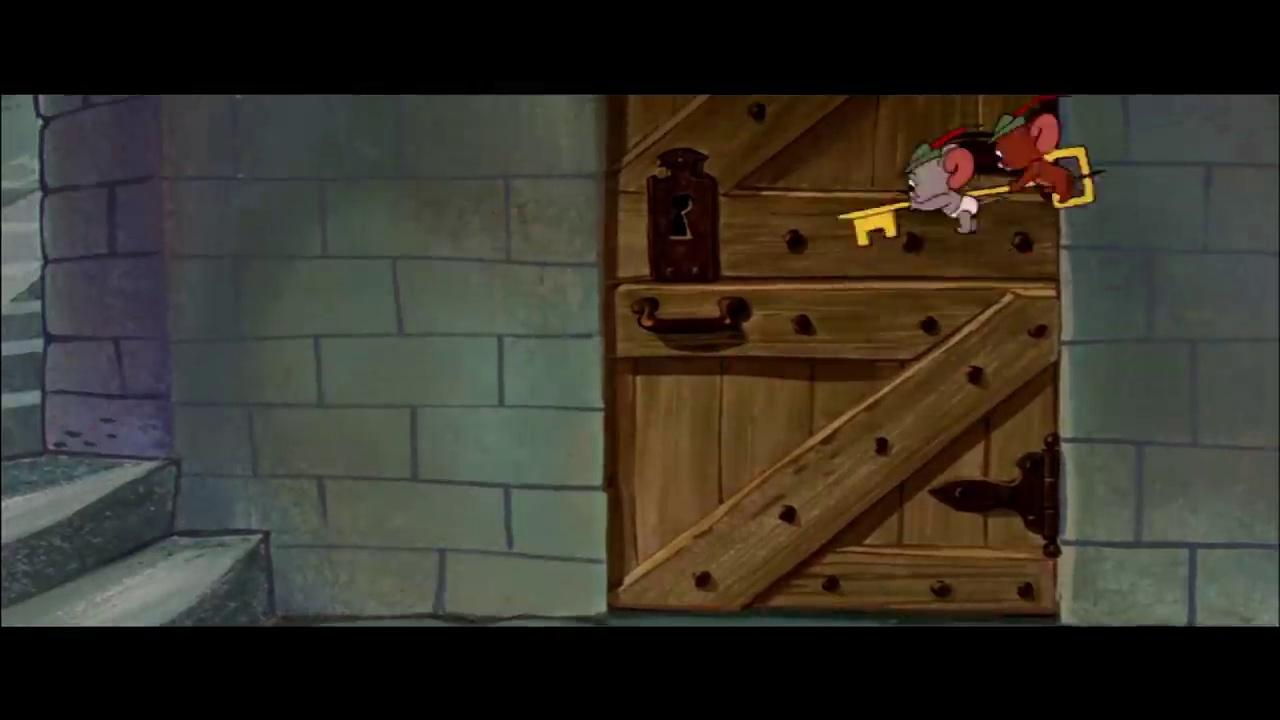Jerry: (985, 110, 1106, 206)
